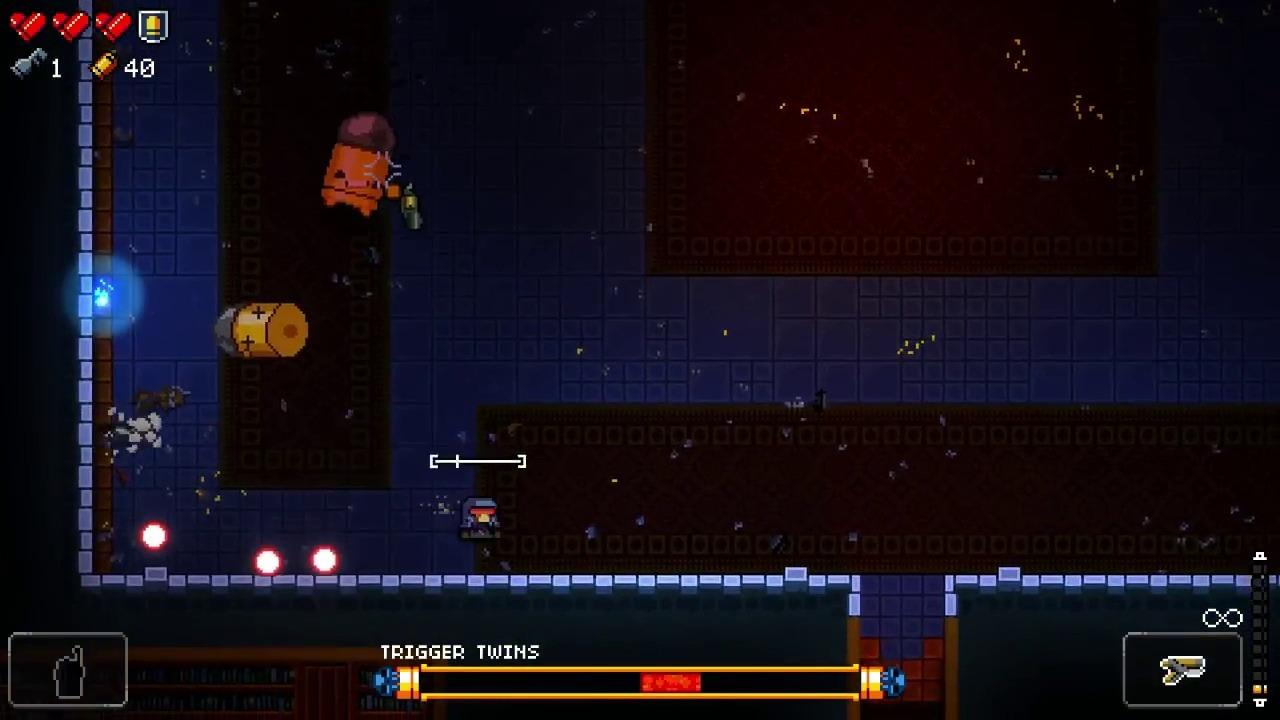boss_smiley: (321, 109, 397, 218)
bullet: (252, 545, 280, 577), (311, 545, 339, 576), (139, 523, 169, 550)
dead_boss_shades: (214, 302, 310, 360)
player: (462, 498, 501, 535)
